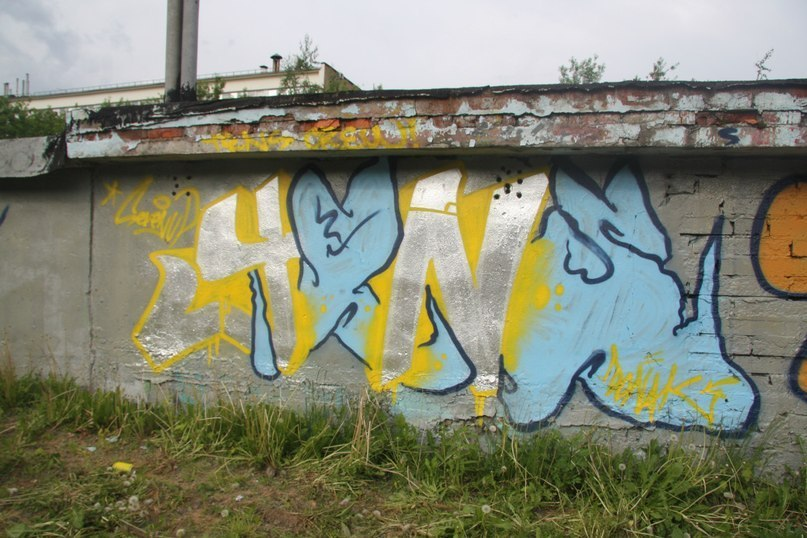graffity: (96, 163, 767, 448), (751, 172, 807, 405), (201, 121, 421, 163)
